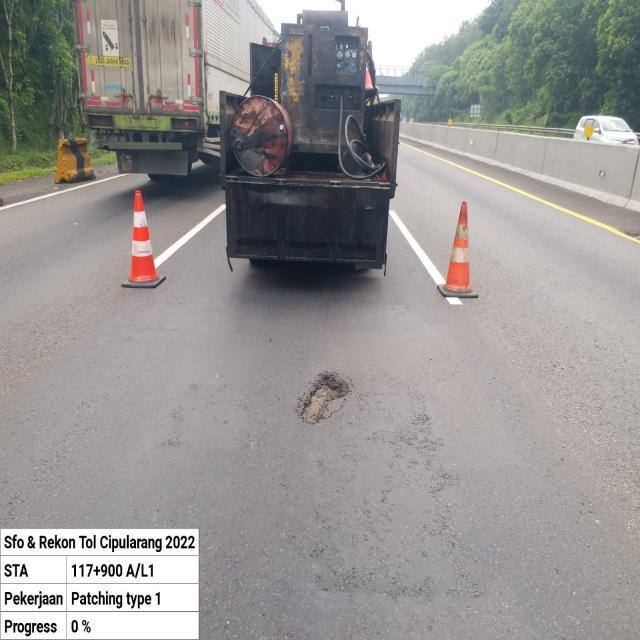Buraco: (294, 371, 354, 427), (623, 228, 640, 240)
